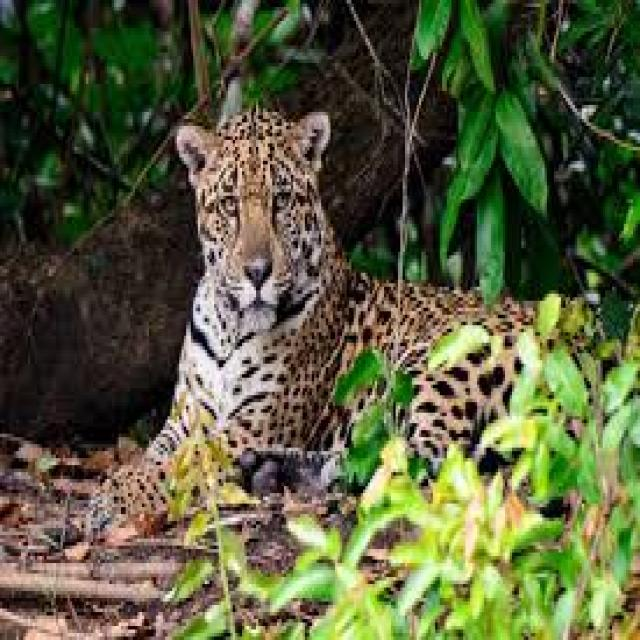Jaguar: (139, 101, 586, 482)
